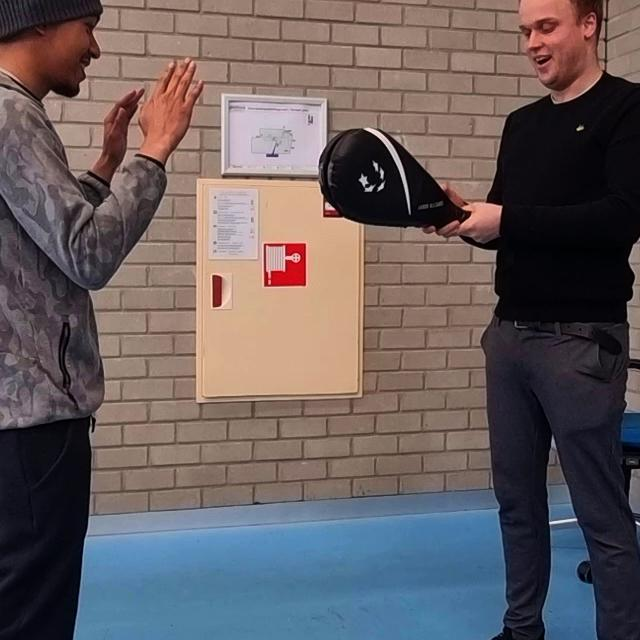paddle: (320, 128, 467, 228)
